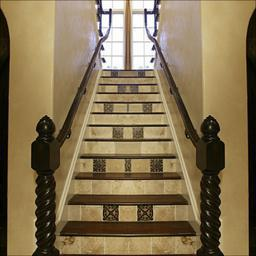Escaleras: (40, 70, 220, 251)
